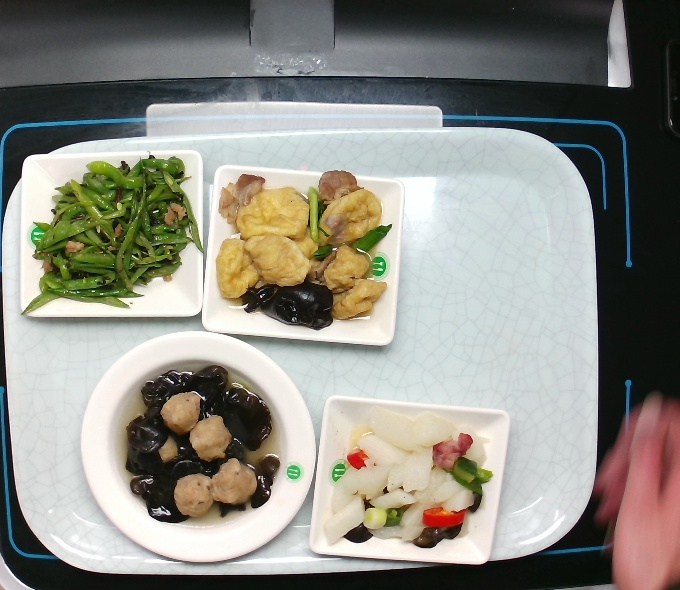wcq-MuErWanZi: (99, 351, 292, 532)
wcq-ShanYao: (328, 407, 495, 558)
wcq-SiJiDouChaoRou: (15, 150, 205, 318)
wcq-YouPaoRouPian: (211, 159, 392, 348)
